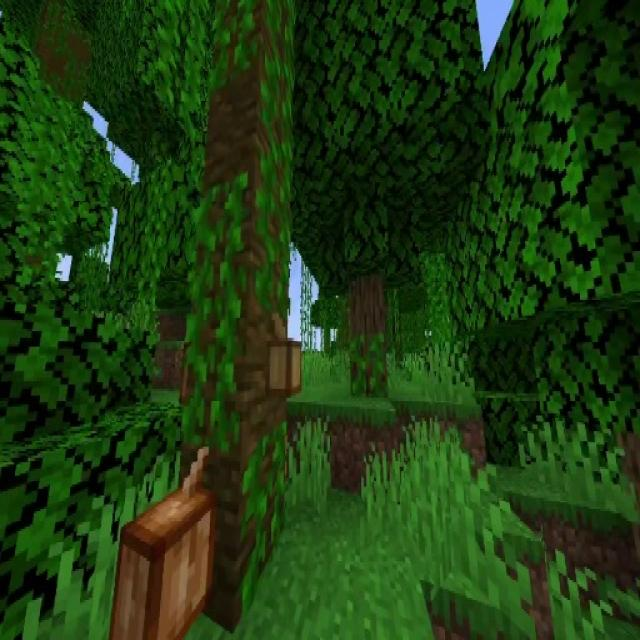jungle_log: (179, 4, 294, 609)
oak: (280, 0, 481, 395), (348, 268, 387, 394)
